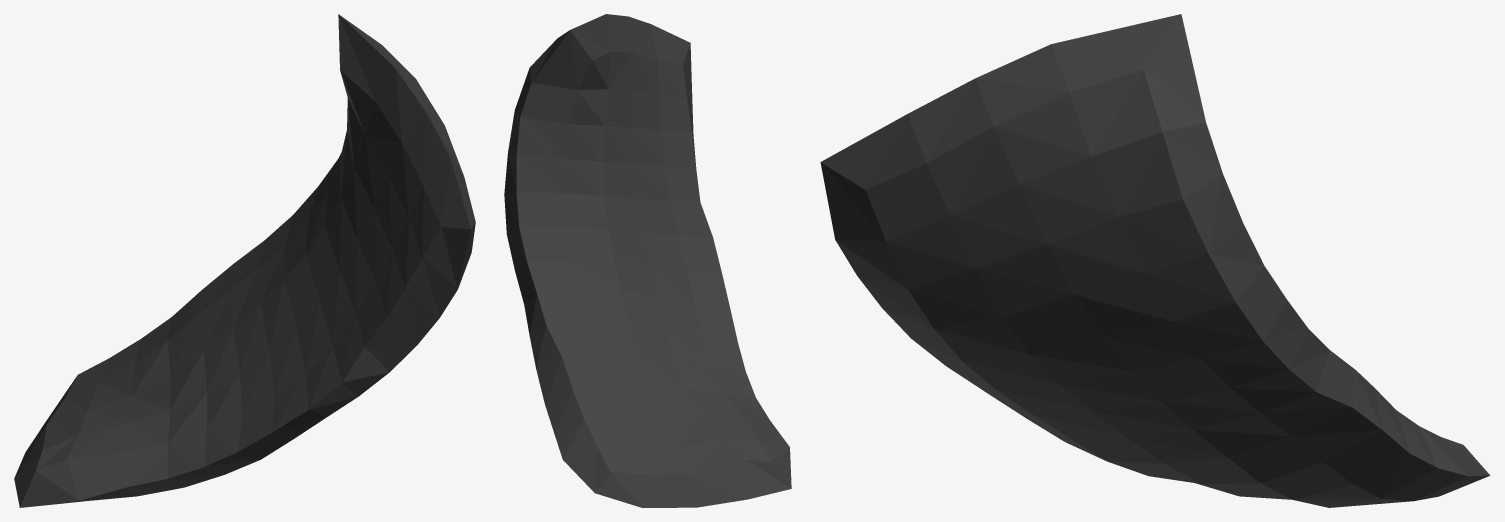
File: mentalis.glb
3 views of the same model, side by side, from view 1: azimuth 30°, elevation 25°; view 2: azimuth 150°, elevation 25°; view 3: azimuth 270°, elevation 25° (orthographic). The views are drawn at different scales.
Parts seen in each view (by area): view 1: mentalis; view 2: mentalis; view 3: mentalis.
Part boxes in pixels (box(x1,y1,x2,y2)): mentalis: box(14, 14, 475, 507); mentalis: box(504, 14, 791, 507); mentalis: box(820, 14, 1489, 507).
Size of the model in its own units: 0.158 by 0.1913 by 0.1967.
1 material, 1 textured.
